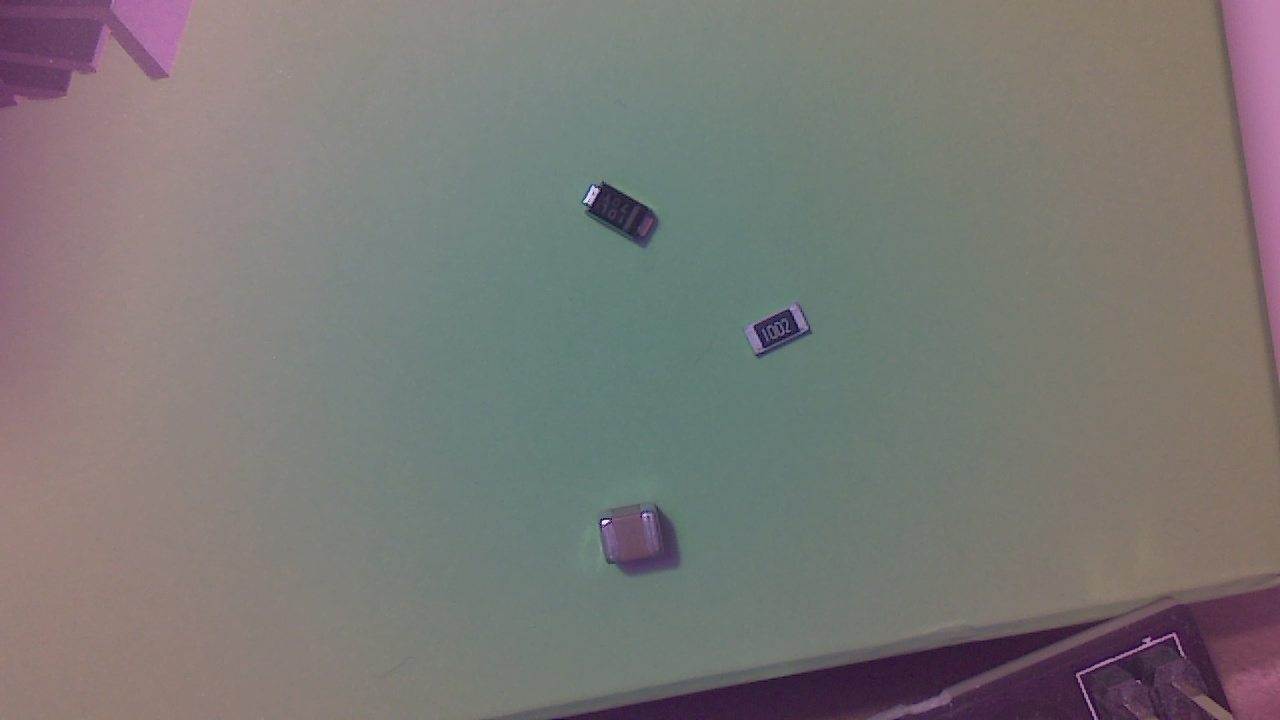Condensator: (607, 508, 668, 568)
Diode: (585, 184, 666, 251)
Resistor: (749, 305, 815, 366)
